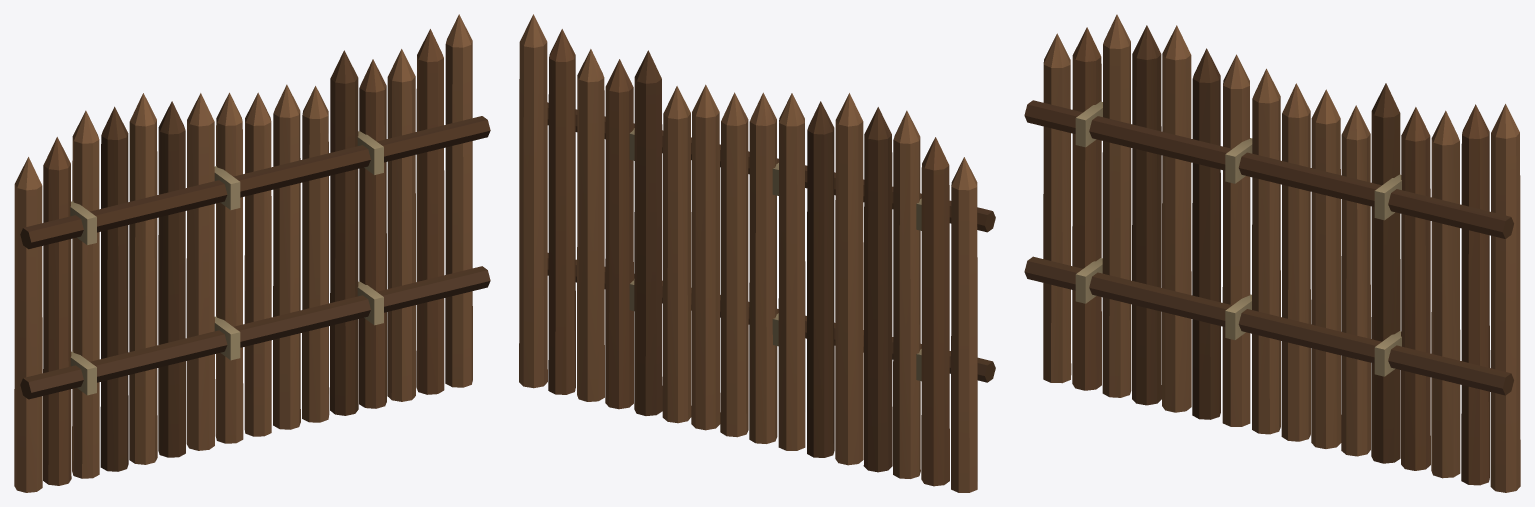
Rendered from fence_segment.glb.
The picture shows the model from 3 angles, left to right: view 1: azimuth 30°, elevation 25°; view 2: azimuth 150°, elevation 25°; view 3: azimuth 330°, elevation 25°; orthographic projection. The views are drawn at different scales.
Bounding box in the file's own units: 2.4 × 1.84 × 0.25.
